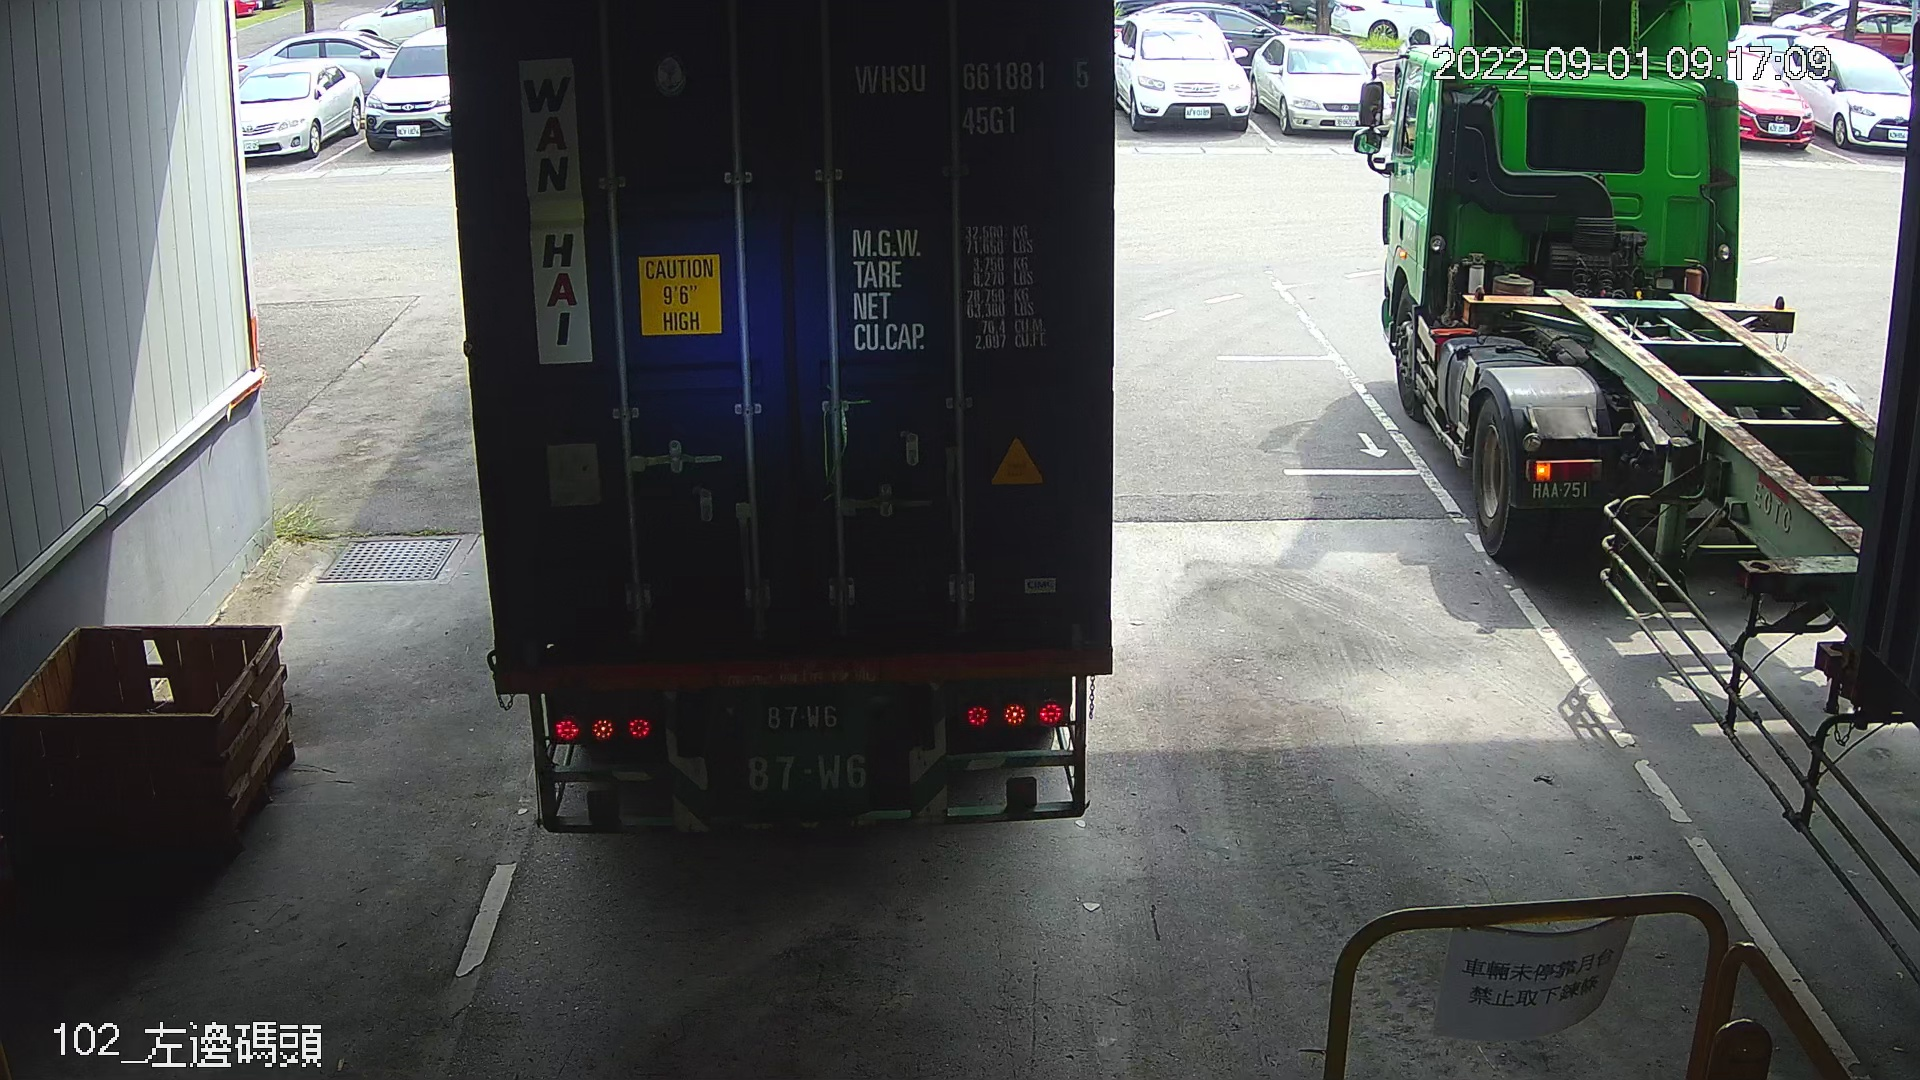container: (847, 51, 1100, 144)
